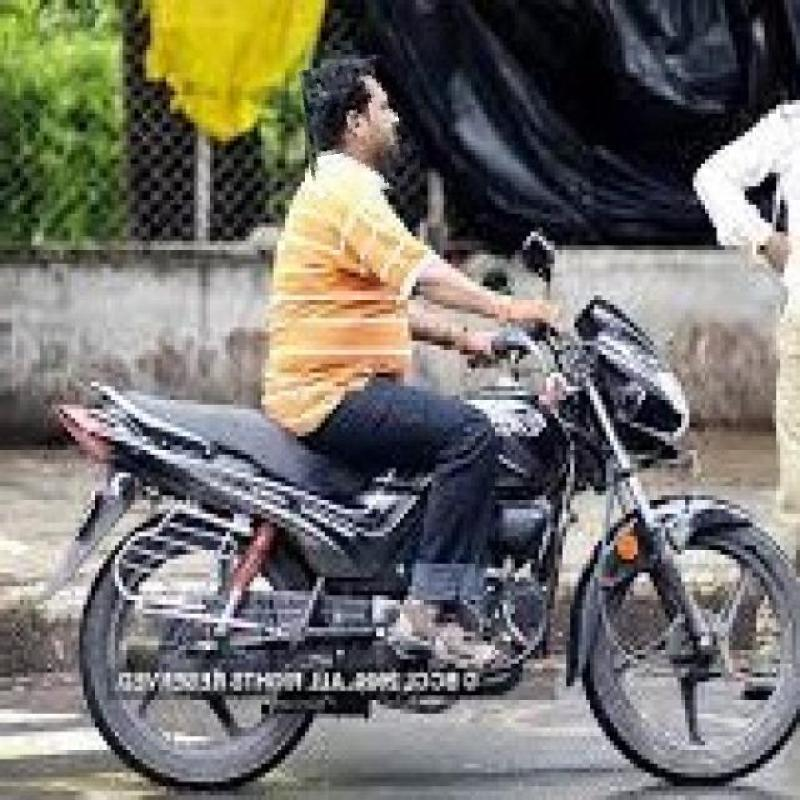nohelmet: (300, 58, 414, 196)
